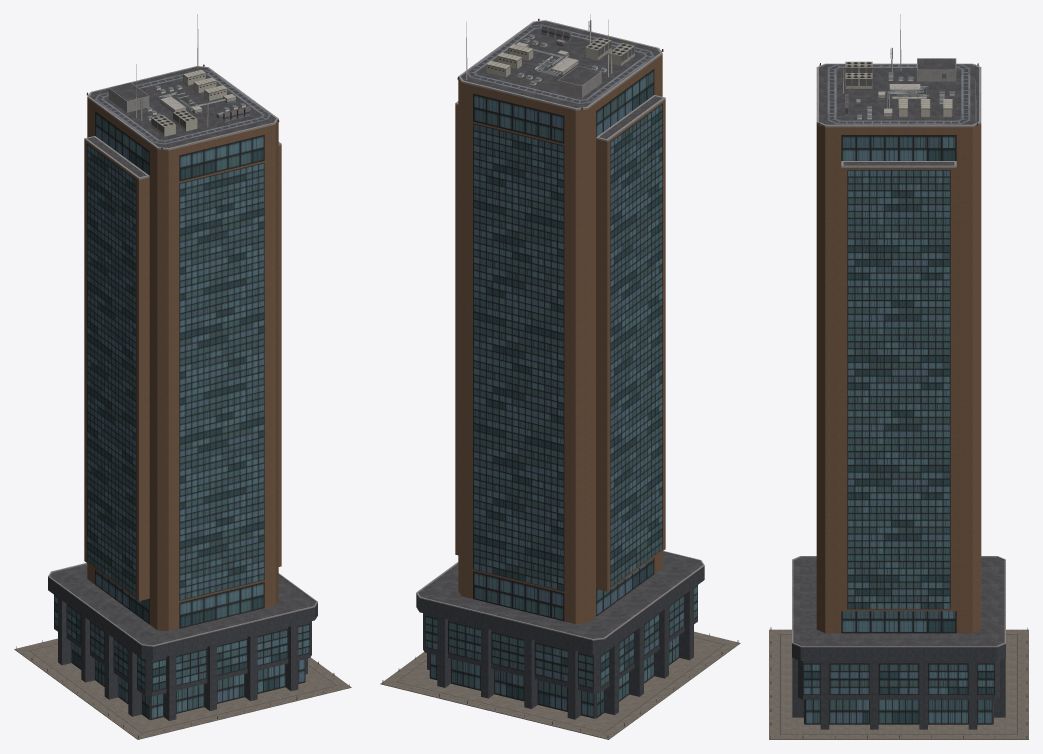
The model's file is jctlowBld50_Ba.fbx.
3 views of the same model, side by side, from view 1: azimuth 30°, elevation 25°; view 2: azimuth 150°, elevation 25°; view 3: azimuth 270°, elevation 25° (orthographic). The views are drawn at different scales.
Parts seen in each view (by area): view 1: jctlowBld50_Ba; view 2: jctlowBld50_Ba; view 3: jctlowBld50_Ba.
Boxes of the visible parts, x1,y1,x2,y2 form: jctlowBld50_Ba: (14,14,351,739); jctlowBld50_Ba: (380,14,740,739); jctlowBld50_Ba: (769,14,1028,739).
Bounding box in the file's own units: 6000 × 16510 × 6000.
Materials: 9 (9 with a texture image).
